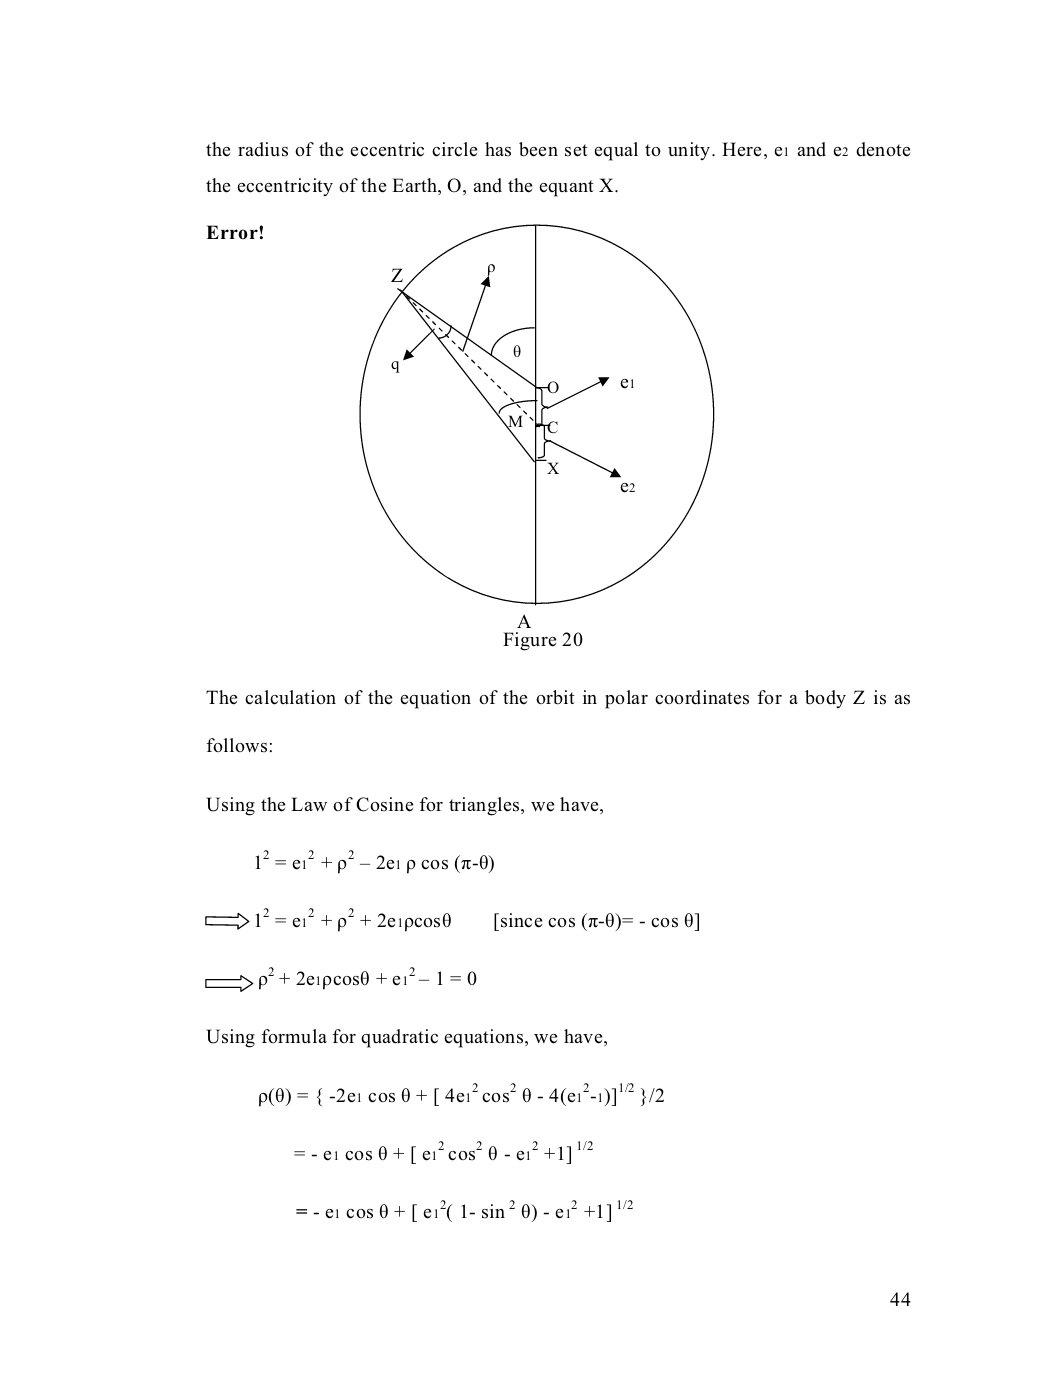figure: (359, 224, 714, 627)
formula: (205, 907, 698, 932), (259, 1082, 663, 1107), (296, 1199, 632, 1223), (205, 965, 476, 992), (294, 1140, 592, 1163), (255, 849, 493, 874)
